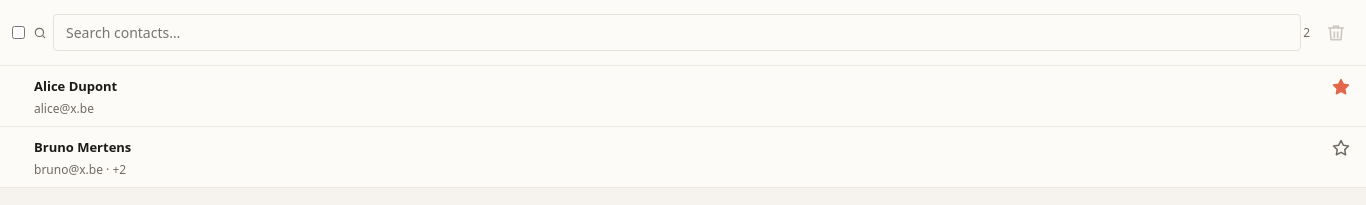
ContactList › says so, and draws no grid, when the filter matches nothing
The image size is (1366, 205).
Type "zzz" into the search field at {"x": 677, "y": 32}, box top-left (53, 14), bottom-right (1301, 51)
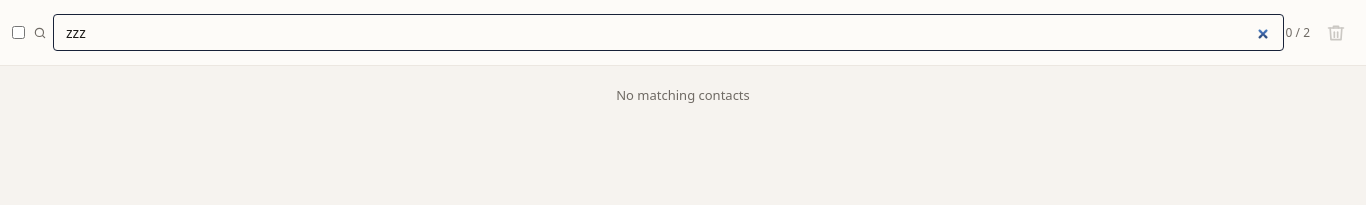
Expected: the text "No matching contacts" is shown, top-left (616, 86), bottom-right (750, 104)
